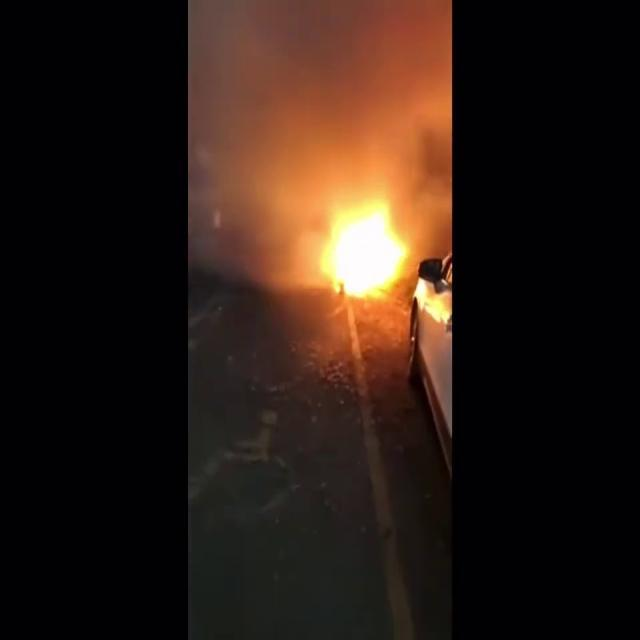Fire: (311, 178, 448, 322)
Smoke: (189, 0, 452, 216)
